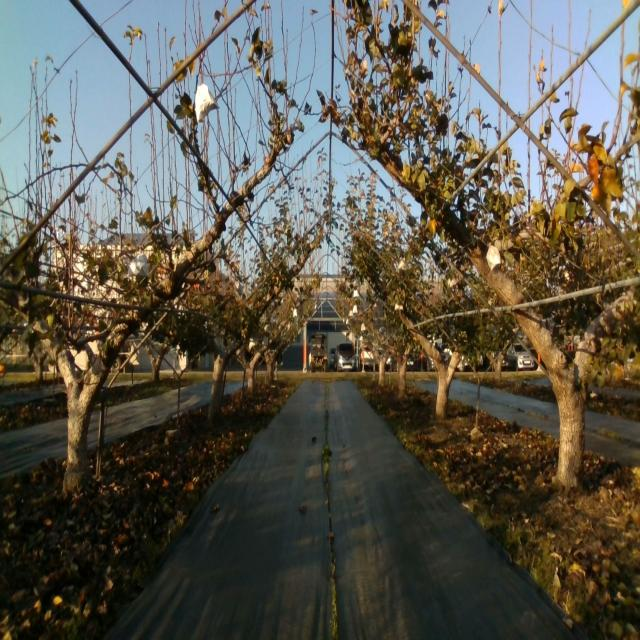pearbags: (194, 82, 220, 123), (127, 250, 150, 279), (486, 243, 501, 271)
